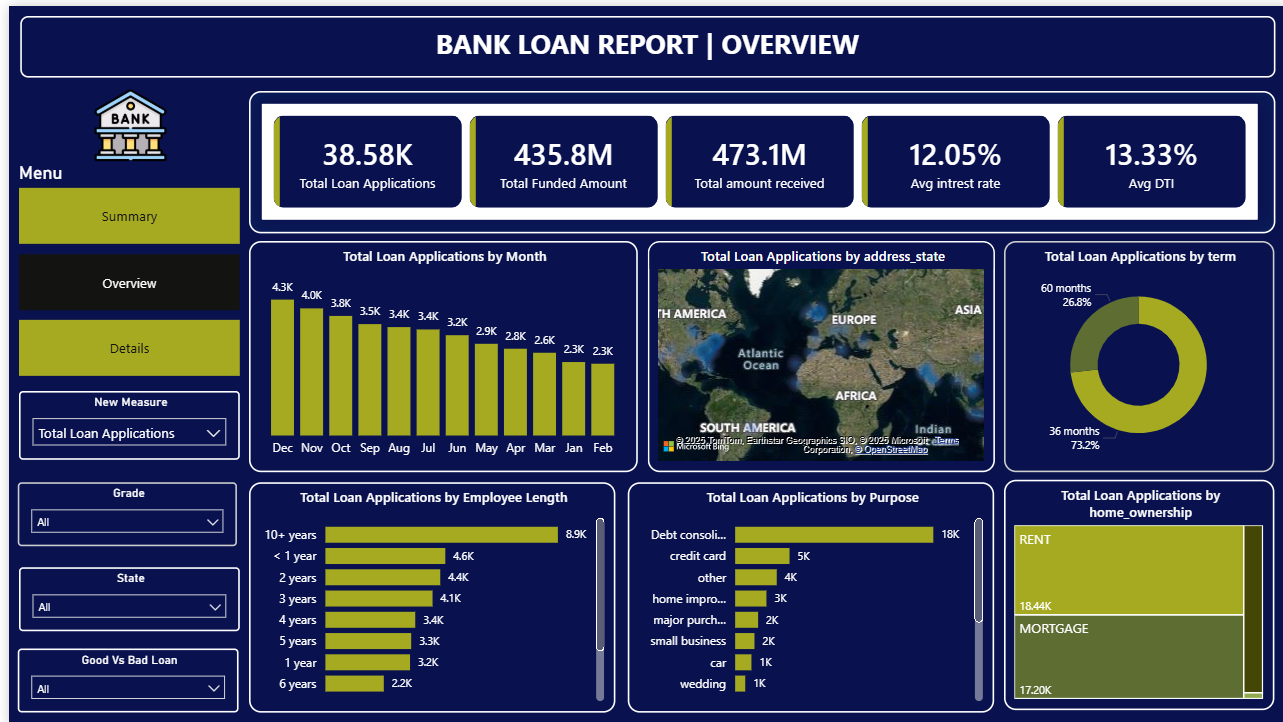

The page's visual inventory and layout, read from the dashboard file:
{"tool":"powerbi","page":{"name":"Overview","canvas":[1280,720],"ordinal":1},"visuals":[{"type":"cardVisual","fields":{"Data":["public bank_loan_data.Total Loan Applications","public bank_loan_data.Total Funded Amount","public bank_loan_data.Total amount received","public bank_loan_data.Avg intrest rate","public bank_loan_data.Avg DTI"]},"box":[240.1,84.5,1026.7,142.4],"z":0},{"type":"textbox","box":[11.2,10,1255,61.2],"z":1000},{"type":"slicer","title":"State","fields":{"Values":["public bank_loan_data.address_state"]},"box":[9.7,561,220.8,63.9],"z":2000},{"type":"slicer","title":"New Measure","fields":{"Values":["New Measure.New Measure"]},"box":[9.7,384.9,220.8,68.8],"z":3000},{"type":"columnChart","fields":{"Y":["public bank_loan_data.Total Loan Applications"],"Category":["Calender table.Month Name"]},"box":[239.7,234.8,388.9,231.1],"z":4000},{"type":"map","fields":{"Y":["public bank_loan_data.Total Loan Applications"],"Category":["public bank_loan_data.address_state"]},"box":[638.3,234.8,347.3,231.1],"z":5000},{"type":"donutChart","fields":{"Y":["public bank_loan_data.Total Loan Applications"],"Category":["public bank_loan_data.term"]},"box":[995.4,234.8,270.2,231.1],"z":6000},{"type":"pageNavigator","title":"Menu","box":[9.7,155.6,222,216],"z":7000},{"type":"slicer","title":"Grade","fields":{"Values":["public bank_loan_data.grade"]},"box":[8.4,476.5,219.6,63.9],"z":8000},{"type":"slicer","title":"Good Vs Bad Loan","fields":{"Values":["public bank_loan_data.Good VS Bad Loan"]},"box":[8.4,643,220.8,63.9],"z":9000},{"type":"clusteredBarChart","fields":{"Y":["public bank_loan_data.Total Loan Applications"],"Category":["public bank_loan_data.emp_length"]},"box":[240.1,476.5,366.8,230.4],"z":10000},{"type":"clusteredBarChart","fields":{"Y":["public bank_loan_data.Total Loan Applications"],"Category":["public bank_loan_data.purpose"]},"box":[618.9,476.5,366.8,230.4],"z":11000},{"type":"treemap","fields":{"Values":["public bank_loan_data.Total Loan Applications"],"Group":["public bank_loan_data.home_ownership"]},"box":[995.3,474.1,270.2,230.4],"z":12000},{"type":"image","box":[57.5,82.5,128.8,73.8],"z":12001}]}

Visuals, with their boxes in screenshot pixels (x1, y1, x2, y2), scaled from the page's 1280x720 canvas onto the 1283x722 screenshot:
cardVisual - public bank_loan_data.Total Loan Applications x public bank_loan_data.Total Funded Amount: box(241, 85, 1270, 228)
textbox: box(11, 10, 1269, 71)
"State" slicer: box(10, 563, 231, 627)
"New Measure" slicer: box(10, 386, 231, 455)
columnChart - public bank_loan_data.Total Loan Applications x Calender table.Month Name: box(240, 235, 630, 467)
map - public bank_loan_data.Total Loan Applications x public bank_loan_data.address_state: box(640, 235, 988, 467)
donutChart - public bank_loan_data.Total Loan Applications x public bank_loan_data.term: box(998, 235, 1269, 467)
"Menu" pageNavigator: box(10, 156, 232, 373)
"Grade" slicer: box(8, 478, 229, 542)
"Good Vs Bad Loan" slicer: box(8, 645, 230, 709)
clusteredBarChart - public bank_loan_data.Total Loan Applications x public bank_loan_data.emp_length: box(241, 478, 608, 709)
clusteredBarChart - public bank_loan_data.Total Loan Applications x public bank_loan_data.purpose: box(620, 478, 988, 709)
treemap - public bank_loan_data.Total Loan Applications x public bank_loan_data.home_ownership: box(998, 475, 1268, 706)
image: box(58, 83, 187, 157)
